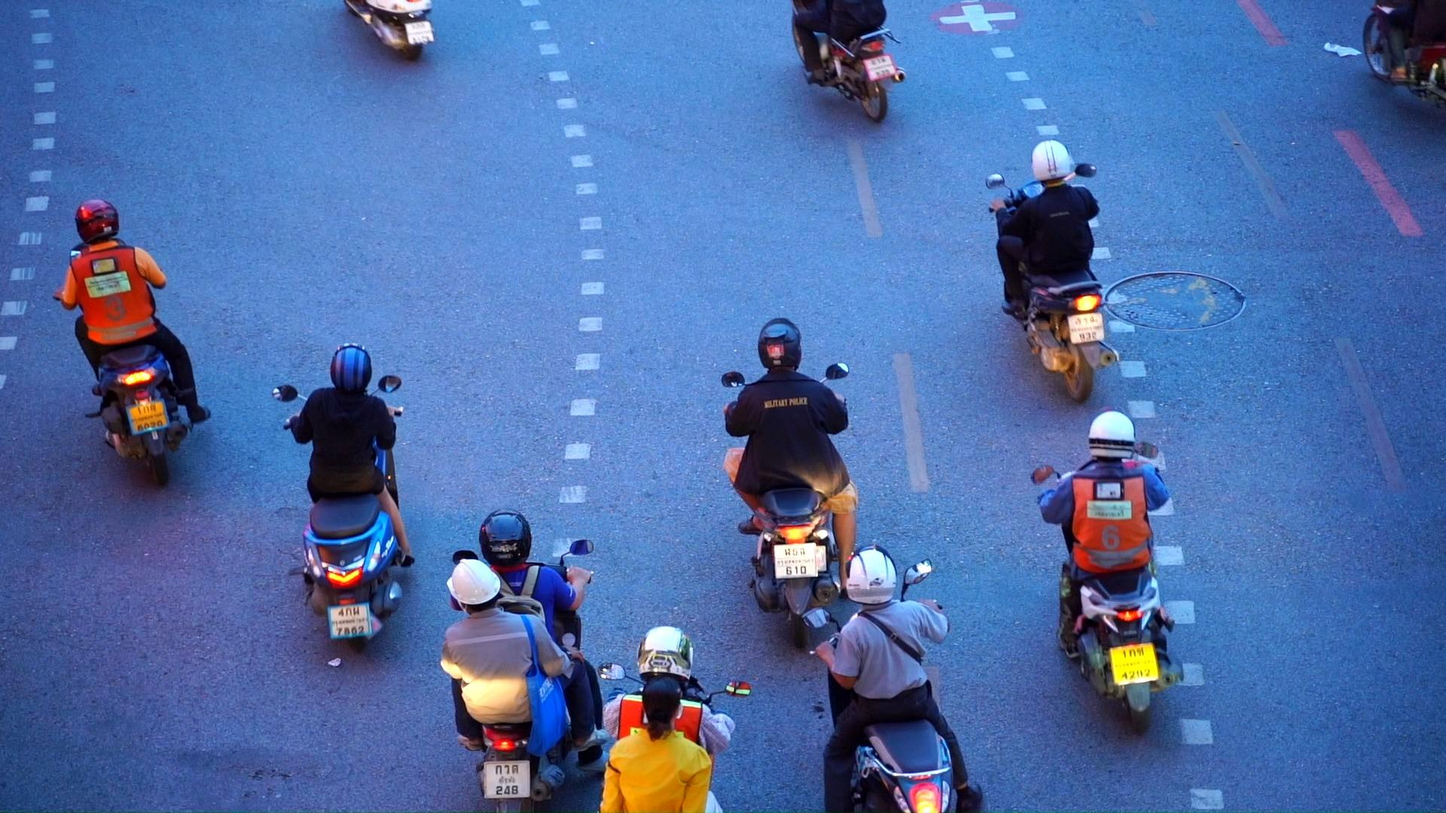driver: (438, 506, 610, 813), (1029, 405, 1185, 735), (801, 543, 982, 813), (721, 317, 860, 650), (53, 199, 212, 486), (273, 343, 415, 654), (985, 139, 1121, 402), (599, 625, 752, 813), (790, 0, 908, 123), (1363, 0, 1446, 109)
helmet: (636, 625, 694, 688), (844, 543, 898, 607), (479, 507, 532, 568), (446, 558, 501, 616), (1088, 405, 1136, 459), (758, 317, 803, 372), (331, 343, 373, 395), (75, 199, 119, 244), (1031, 139, 1071, 187)
no-helmet: (642, 676, 683, 742)
